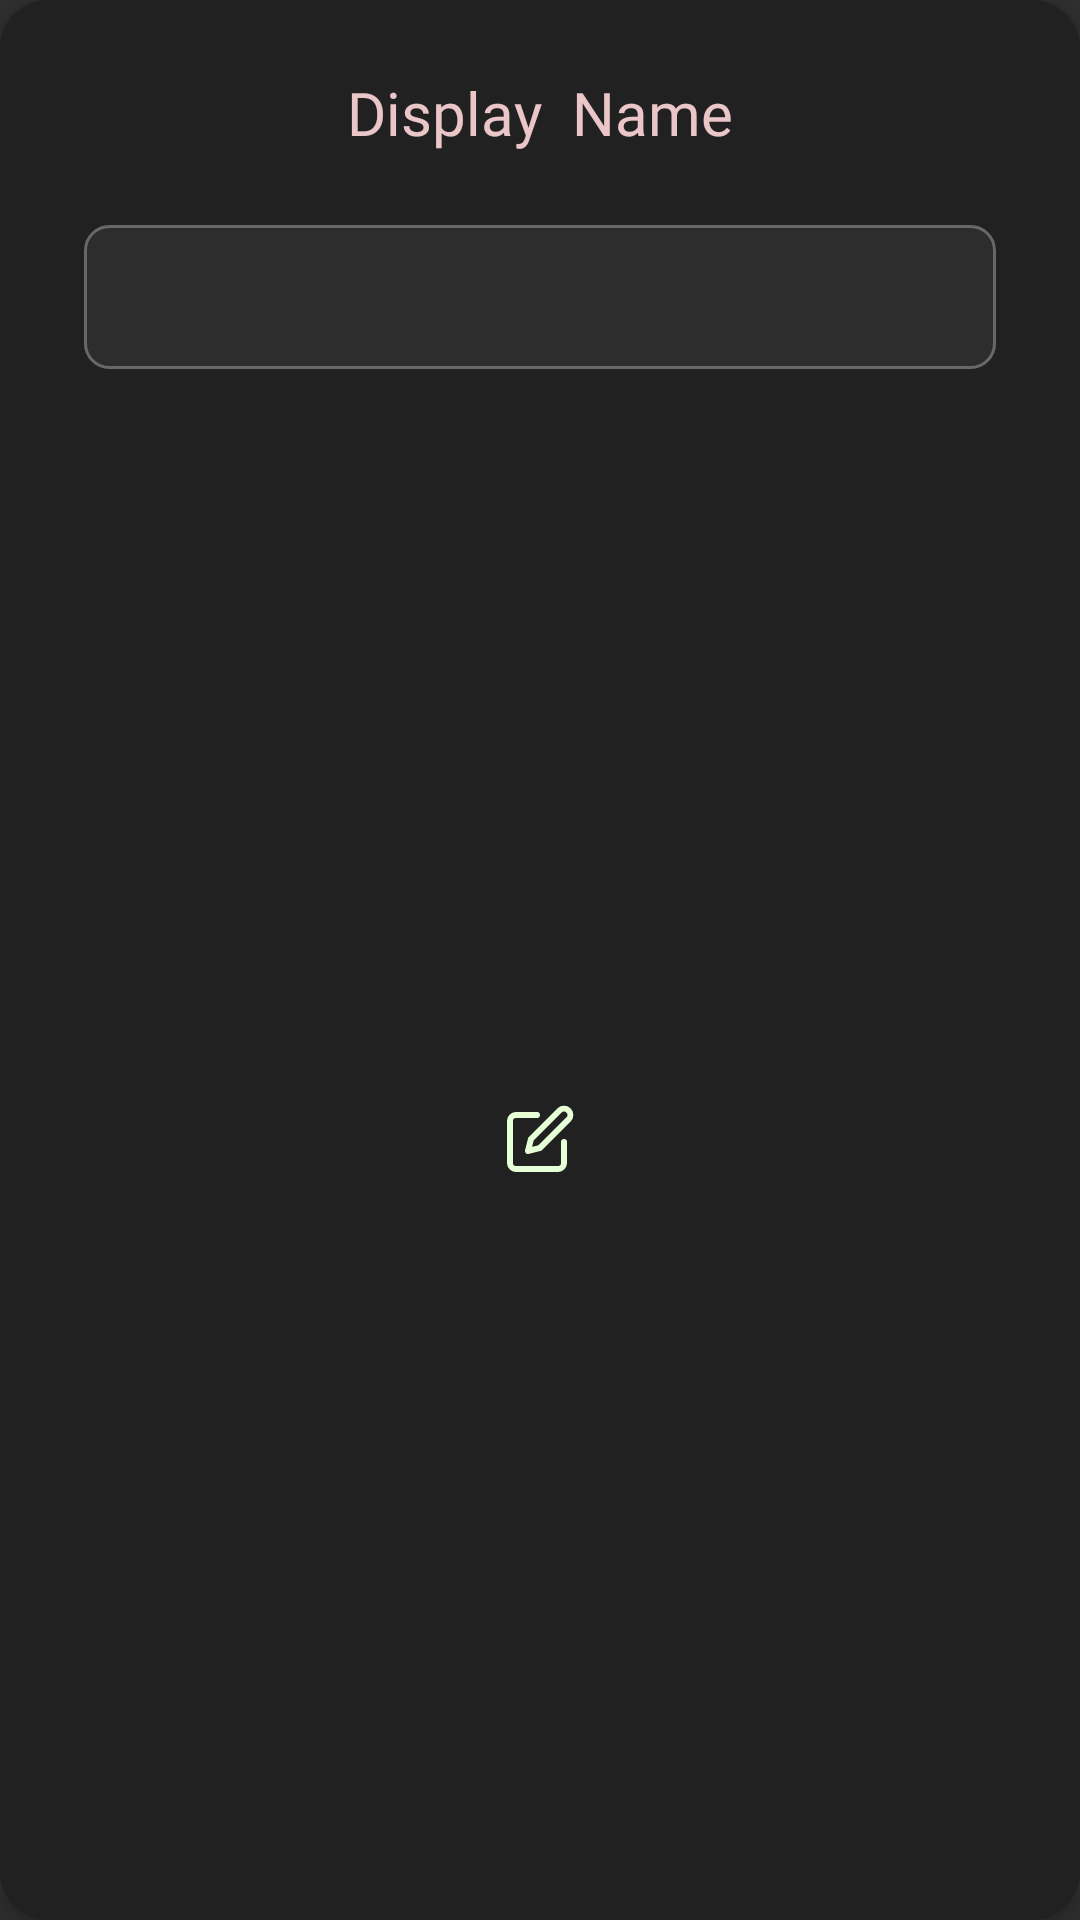

Named icons in this screenshot (1080w x 1920h) and their centers, point (x, y):
update: point (540, 1138)
